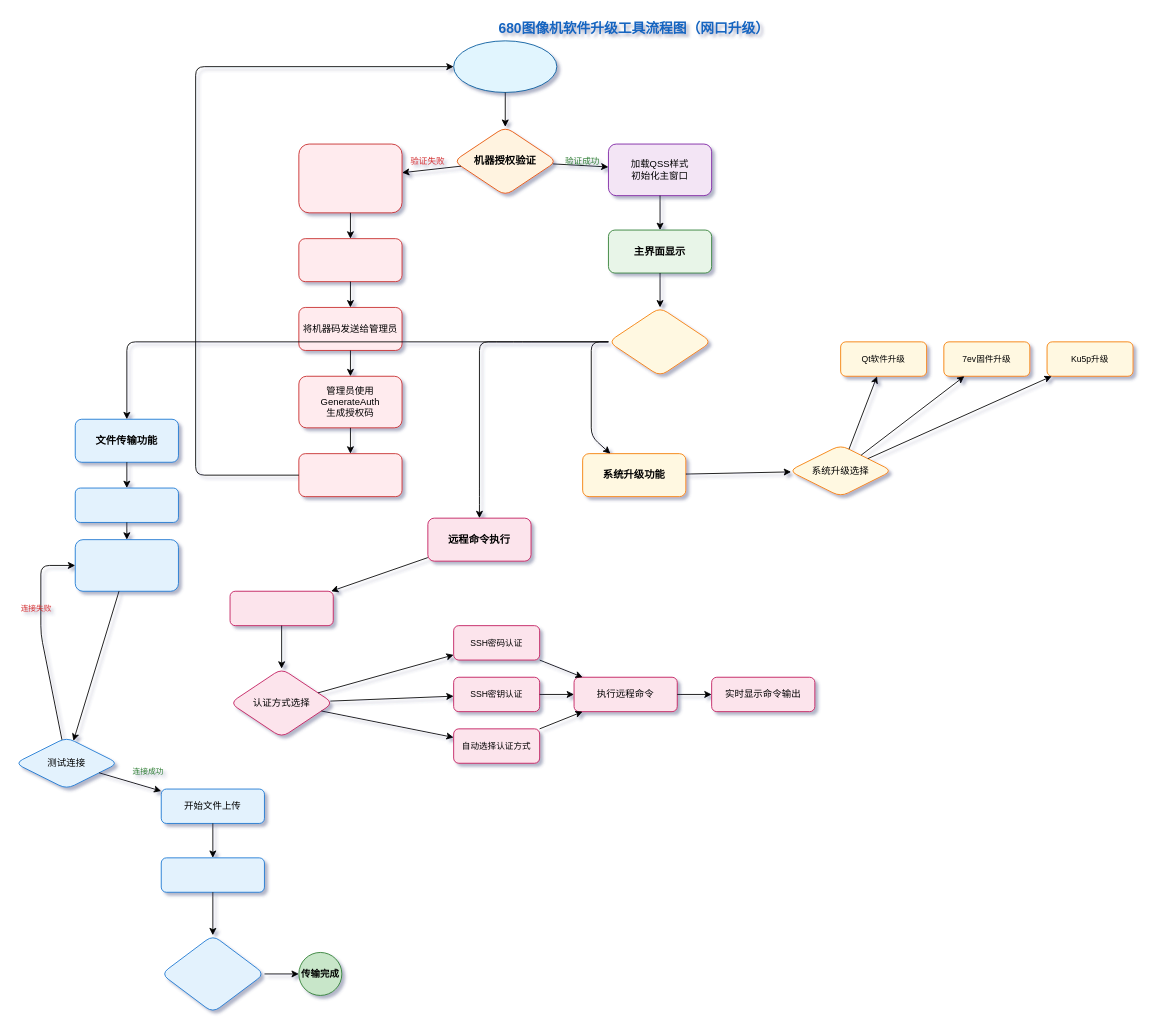
Image size: 1153x1033. Some labels were removed from this diagram. Here are the shapes that lost their labels. From the top down, the centre of each, then its label:
point (505, 66): 应用程序启动
point (350, 178): 显示错误信息 提示使用GetMachineCode 获取机器码
point (350, 260): 使用GetMachineCode 获取机器码
point (660, 341): 用户选择功能
point (350, 475): 应用授权码 重新启动验证
point (126, 504): 选择本地文件
point (126, 565): 配置连接参数 (IP、端口、用户名、密码)
point (281, 608): 输入远程命令
point (212, 874): SCP传输进度监控
point (212, 973): 文件MD5校验
